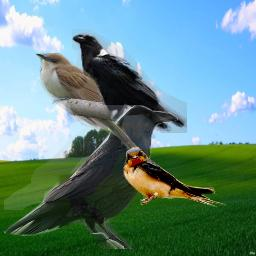Crow: (4, 105, 178, 249), (72, 29, 187, 133)
Cuckoo: (35, 53, 141, 156)
Swallow: (122, 147, 226, 211)
